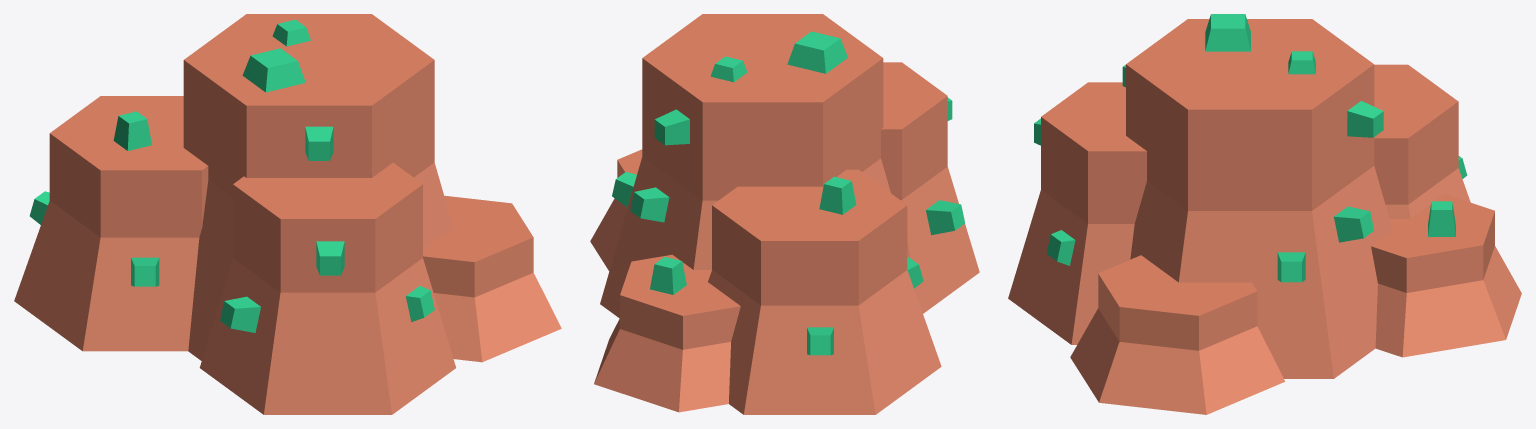
File: rock_crystalsLargeA.dae
3 renders of one model, left to right at view 1: azimuth 30°, elevation 25°; view 2: azimuth 150°, elevation 25°; view 3: azimuth 270°, elevation 25°, orthographic. The views are drawn at different scales.
Visible parts, largest first — view 1: rock_crystalsLargeA; view 2: rock_crystalsLargeA; view 3: rock_crystalsLargeA.
Boxes of the visible parts, x1=… form: rock_crystalsLargeA: x1=14, y1=14, x2=561, y2=414; rock_crystalsLargeA: x1=590, y1=14, x2=979, y2=414; rock_crystalsLargeA: x1=1008, y1=14, x2=1521, y2=414.
Size of the model in its own units: 0.8339 by 0.541 by 0.9193.
